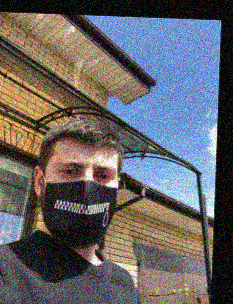with_mask: (40, 153, 119, 248)
